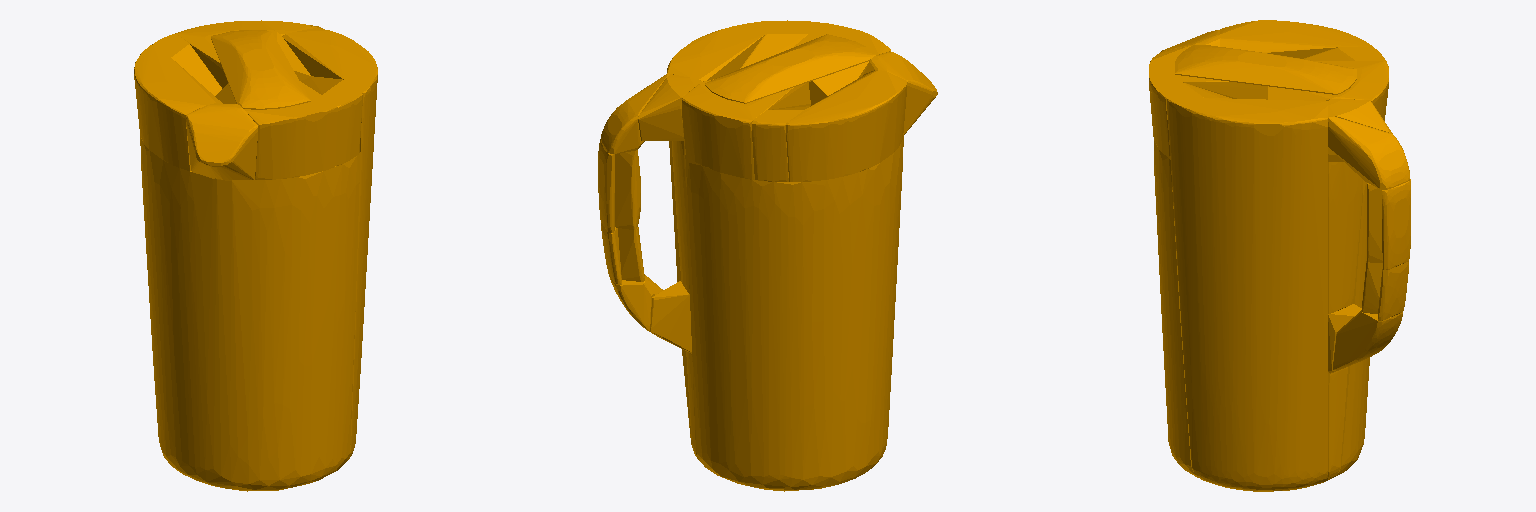
robot.urdf — 019_pitcher_base:
<?xml version="1.0" encoding="UTF-8"?>
<robot name="019_pitcher_base">
	<link name="base">
		<collision>
			<geometry>
				<mesh filename="..\vhacd\019_pitcher_base_vhacd.obj" scale="1.0 1.0 1.0"/>
			</geometry>
			<origin xyz="0 0 0"/>
			<contact_coefficients mu="0.24" />
		</collision>
		<visual>
			<geometry>
				<mesh filename="..\vhacd\019_pitcher_base_vhacd.obj" scale="1.0 1.0 1.0"/>
			</geometry>
			<origin xyz="0 0 0"/>
		</visual>
		<inertial>
			<mass value="0"/>
			<inertia ixx="0.0" ixy="-0.0" ixz="-0.0" iyy="0.0" iyz="-0.0" izz="0.0" />
			<origin xyz="-0.013413446545822376 0.03347736237537512 0.12263624742398854"/>
		</inertial>
	</link>
</robot>

--- What the picture shows (computed from the rendered views, not written in the file) ---
The picture shows the robot from 3 angles, left to right: view 1: azimuth 30°, elevation 25°; view 2: azimuth 150°, elevation 25°; view 3: azimuth 270°, elevation 25°; orthographic projection.
Robot: 019_pitcher_base — 1 links, 0 joints (none); root link base; default pose: all joints at 0.
Links seen in each view (by area): view 1: base; view 2: base; view 3: base.
Link boxes in pixels (x1=…): base: x1=134, y1=20, x2=377, y2=491; base: x1=598, y1=20, x2=937, y2=491; base: x1=1149, y1=20, x2=1410, y2=491.
Size in the robot's own frame: 0.1501 by 0.1453 by 0.2431 metres.
Meshes: 1 distinct files referenced, 1 mesh visuals loaded (1 OBJ).